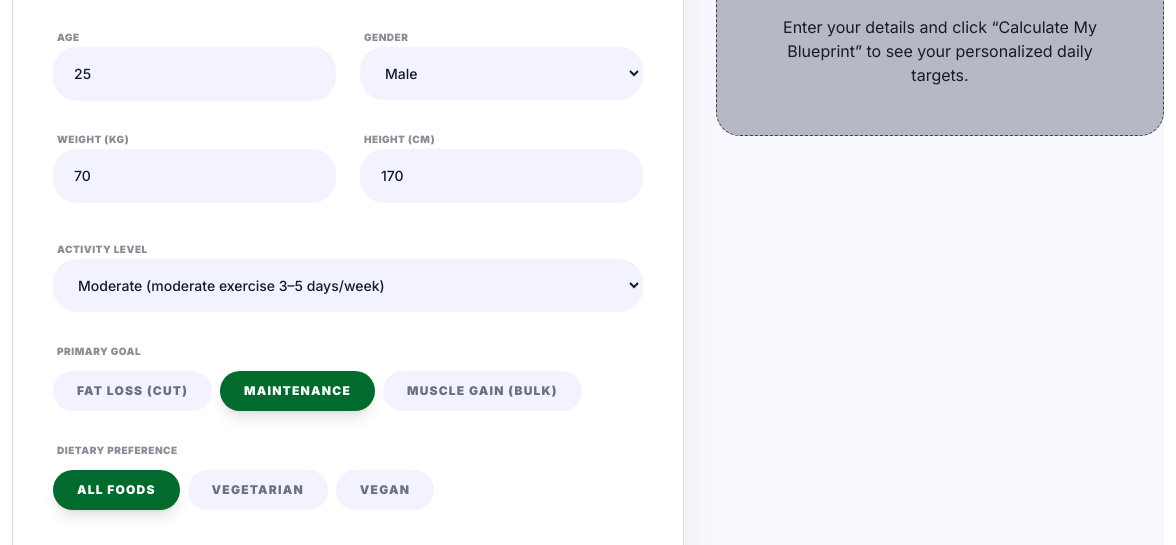
Calculate My Blueprint Button & Smooth Scrolling Suite › 4. Full Calculator Page: displays all four nutrition targets (Calories, Protein, Carbs, Fat) with correct units matching authoritative calculations
The width and height of the screenshot is (1176, 545).
Expected: the text "Personalized Nutrition Blueprint" is not shown
Expected: the text "Enter your details and click" is shown, [783,17,1097,85]
Replace the text in the number field labelled "Age" with "28" at (194, 74), box [53,47,336,101]
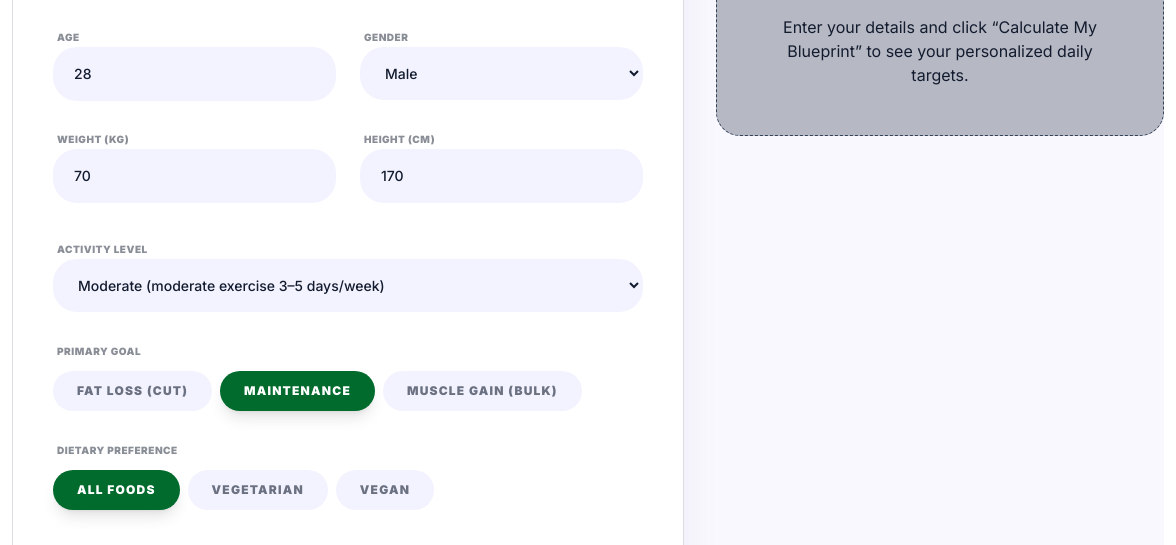
Replace the text in the number field labelled "Weight (kg)" with "75" at (194, 176), box [53,149,336,203]
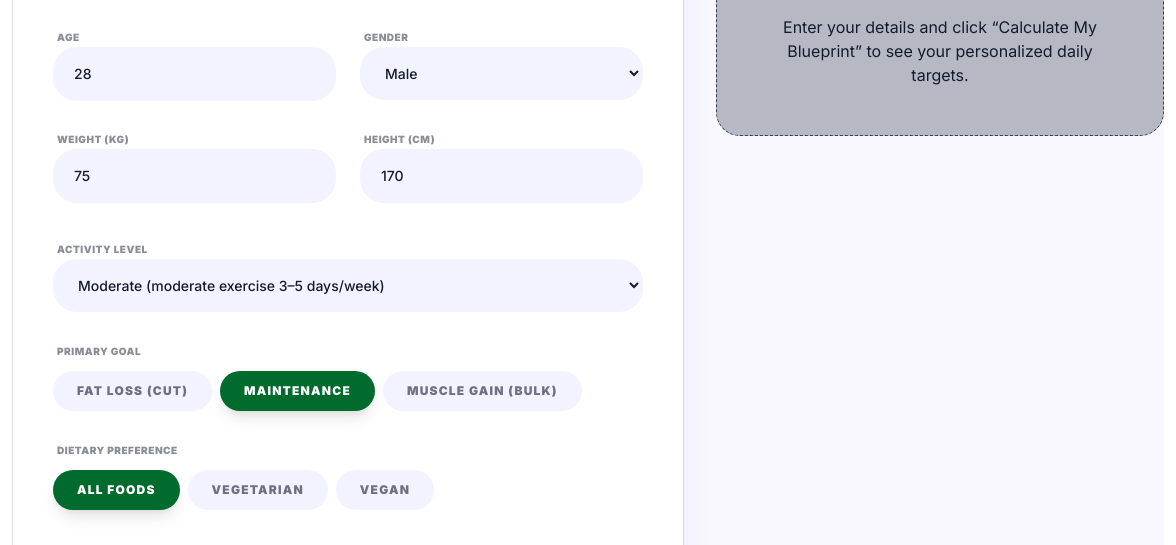
Replace the text in the number field labelled "Height (cm)" with "175" at (502, 176), box [360,149,643,203]
(page scrolled)
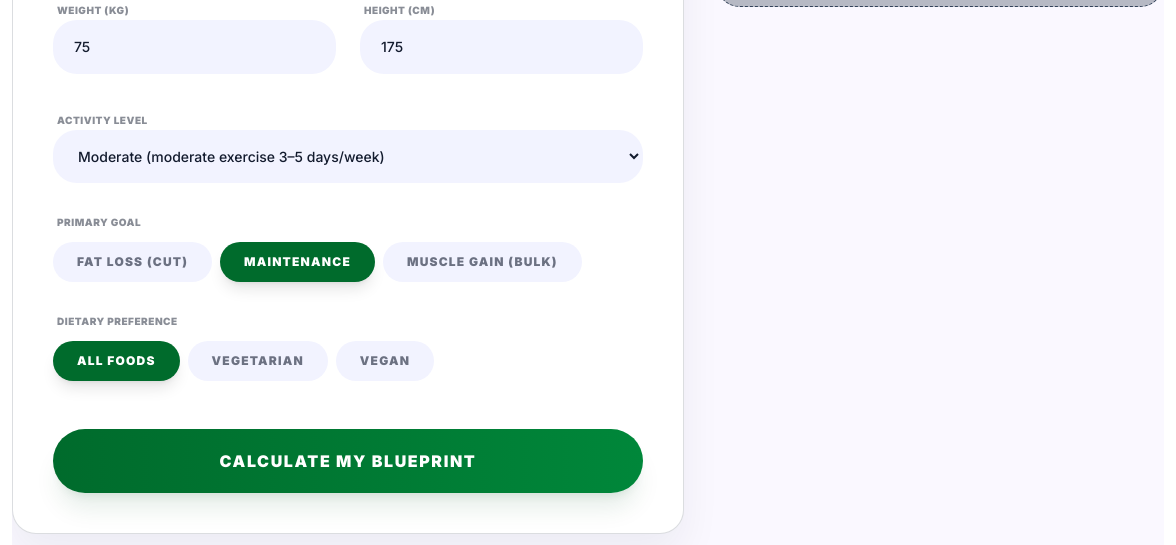
# Click Calculate My Blueprint
Click the button "Calculate My Blueprint" at (348, 461), box [53,429,643,493]
(page scrolled)
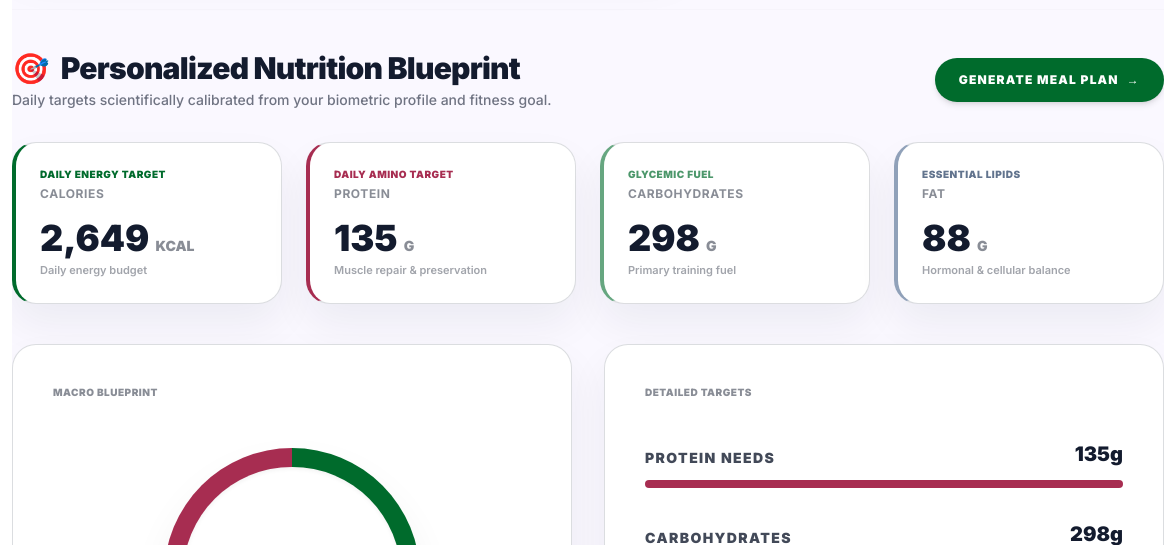
Now the heading "🎯 Personalized Nutrition Blueprint" is shown, box [12,50,552,86]
Now the element with id "target-calories-card" is shown, box [12,142,282,304]
Now the element with id "target-calories-card" shows "kcal", box [155,237,194,254]
